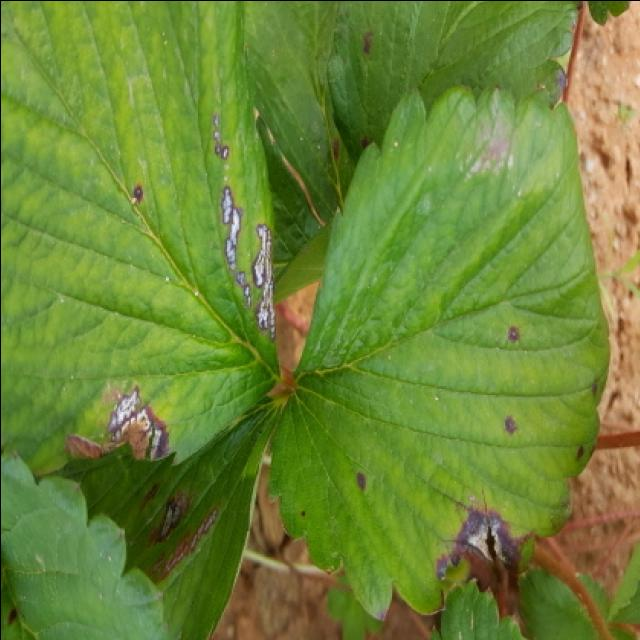Leaf Spot: (267, 77, 612, 622), (2, 2, 282, 473), (244, 2, 579, 304), (2, 390, 286, 640)
